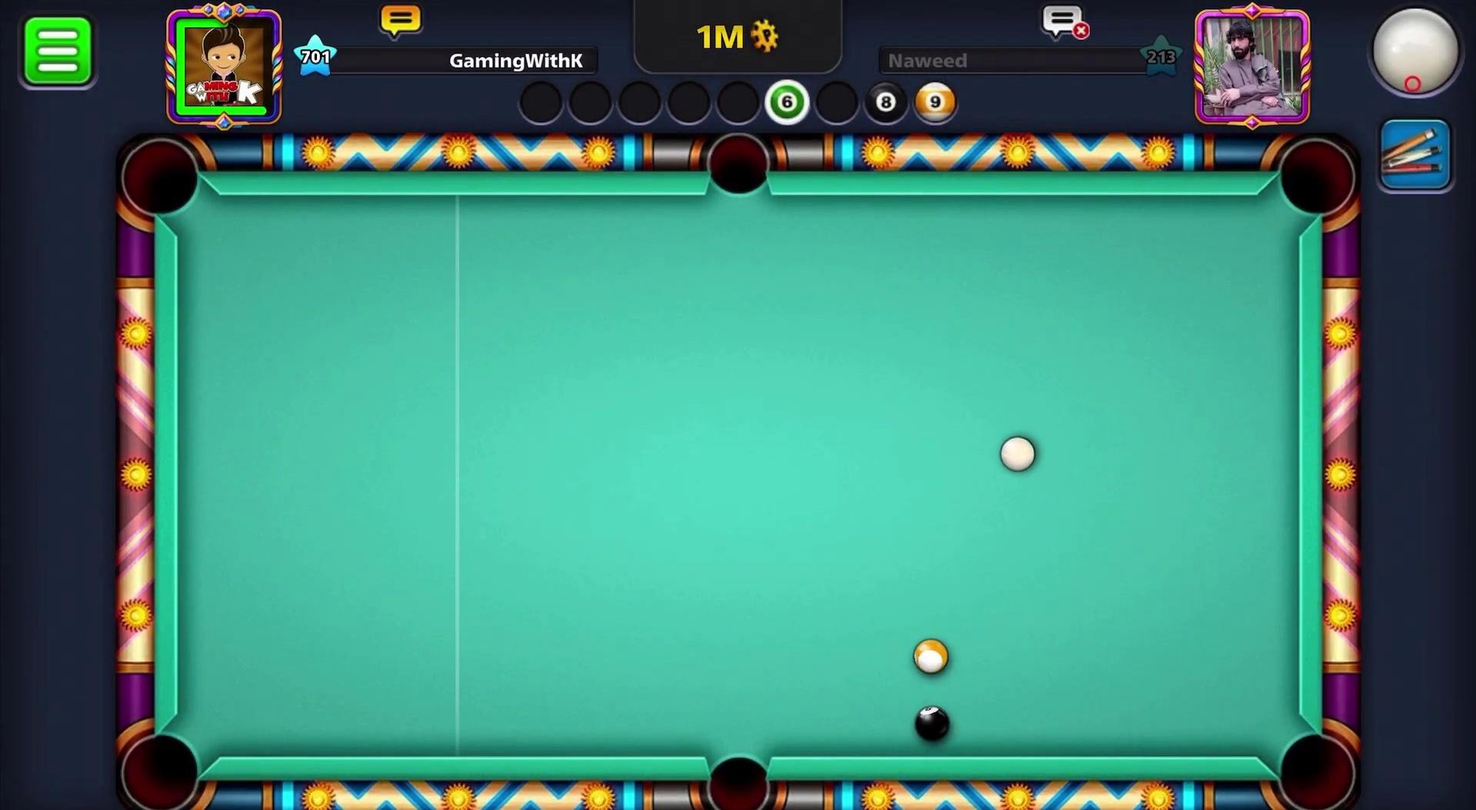Ball: (908, 634, 955, 680), (905, 705, 956, 745)
Hole: (107, 128, 214, 231), (1267, 131, 1366, 231), (1263, 713, 1365, 809), (111, 717, 213, 809), (681, 742, 791, 809), (698, 128, 779, 207)
Play_Area: (180, 194, 1304, 759)
Spin: (1348, 0, 1475, 118)
White: (994, 430, 1041, 477)
